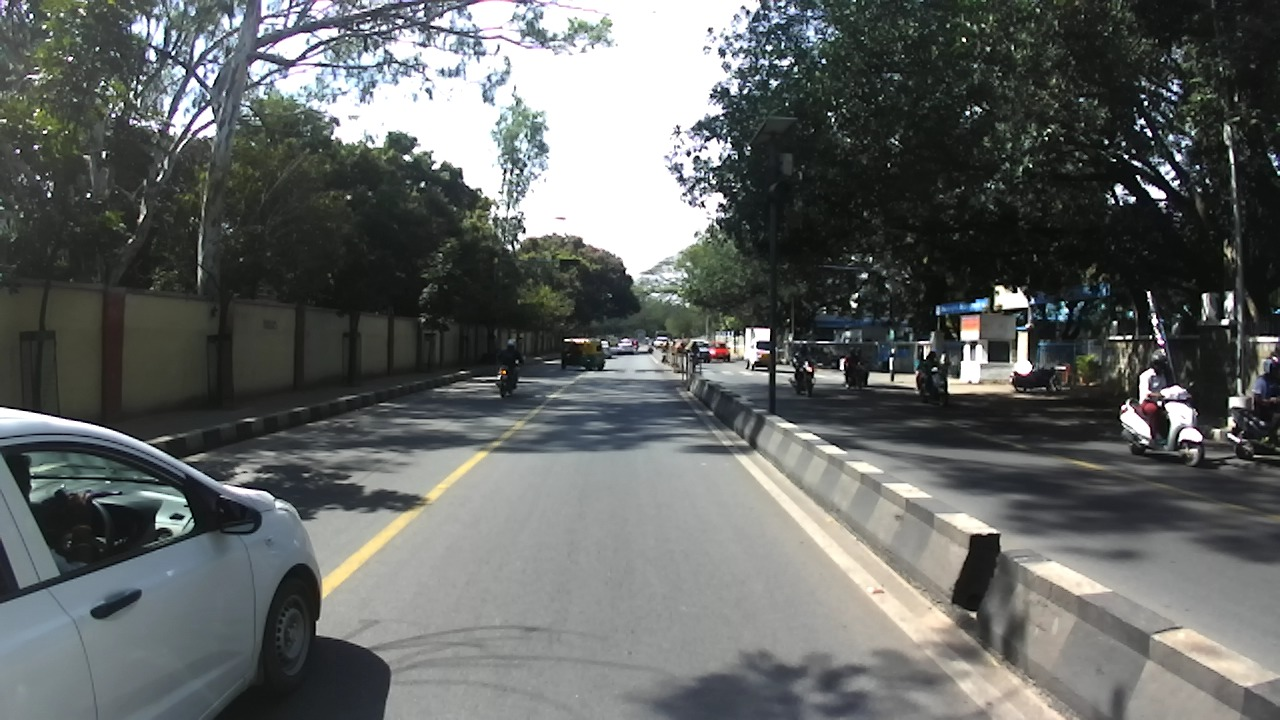autorickshaw: (560, 336, 606, 372)
car: (1, 407, 324, 720), (792, 341, 849, 368), (744, 338, 775, 371), (703, 340, 732, 364), (686, 339, 711, 365), (613, 338, 638, 354), (670, 338, 690, 353), (599, 340, 612, 360), (653, 336, 672, 348)
motorcycle: (1117, 378, 1207, 468), (1225, 386, 1280, 460), (494, 355, 525, 400), (914, 368, 949, 405), (1013, 364, 1053, 393), (788, 355, 815, 396), (843, 366, 865, 392), (1045, 367, 1062, 391), (855, 361, 870, 387), (917, 376, 935, 397), (939, 363, 949, 379)
person: (690, 340, 699, 372)
rider: (1138, 348, 1172, 449), (1250, 358, 1280, 450), (499, 336, 523, 396), (792, 341, 813, 389), (920, 351, 939, 398), (843, 347, 861, 382), (915, 357, 932, 391), (852, 346, 866, 383), (938, 349, 950, 372)
traffic light: (770, 174, 793, 206), (559, 260, 579, 265)
vehicle fallback: (656, 331, 672, 344), (644, 335, 650, 344)
